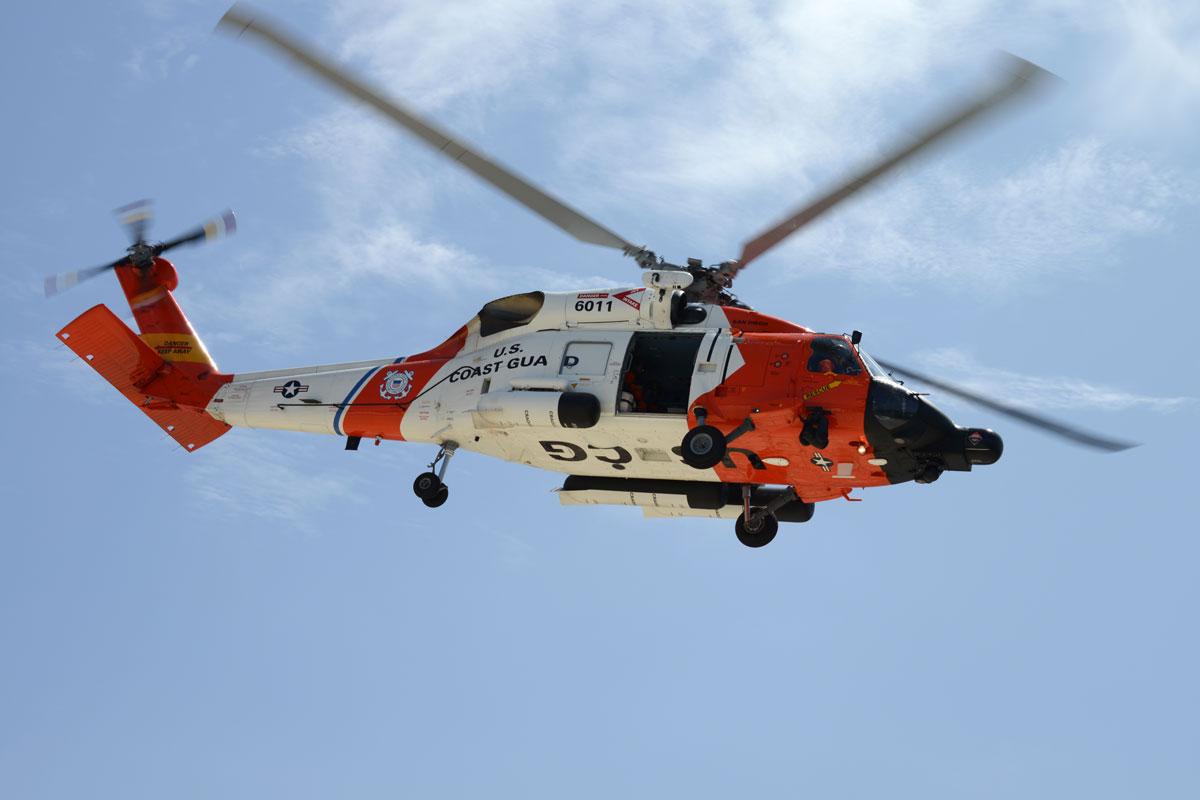MilitaryHelicopter: (98, 232, 1081, 552)
